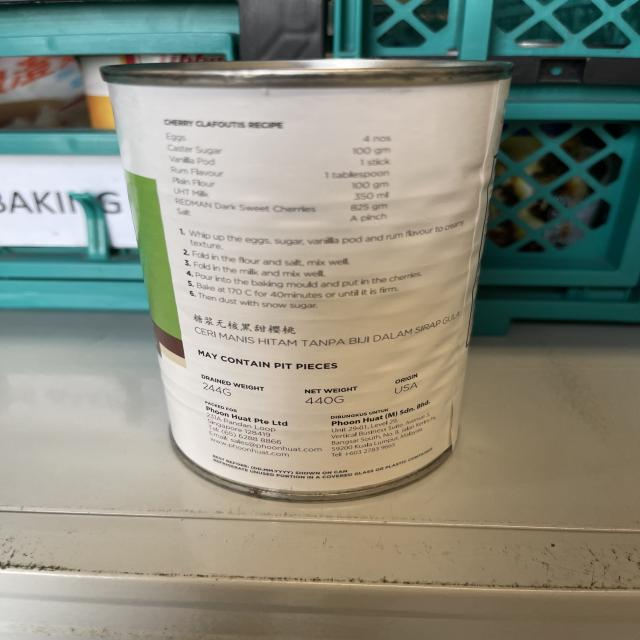object_name: (114, 60, 476, 484)
